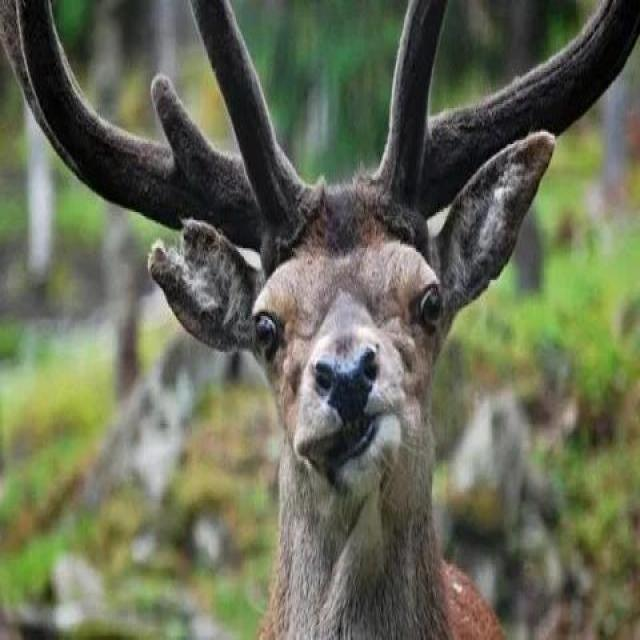deer: (105, 24, 534, 636)
